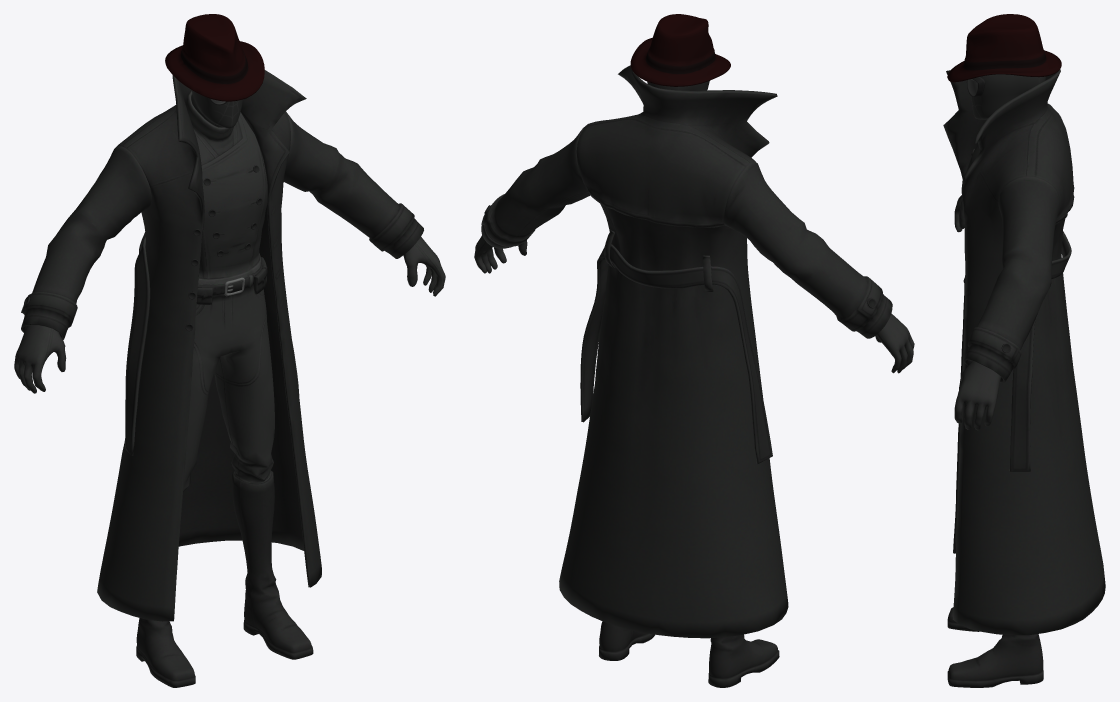
File: noir.glb.glb
3 renders of one model, left to right at view 1: azimuth 30°, elevation 25°; view 2: azimuth 150°, elevation 25°; view 3: azimuth 270°, elevation 25°, orthographic. The views are drawn at different scales.
Visible parts, largest first — view 1: M_MED_PuffinSmile_LOD0; view 2: M_MED_PuffinSmile_LOD0; view 3: M_MED_PuffinSmile_LOD0.
Boxes of the visible parts, x1=… form: M_MED_PuffinSmile_LOD0: x1=14, y1=14, x2=445, y2=687; M_MED_PuffinSmile_LOD0: x1=474, y1=14, x2=914, y2=687; M_MED_PuffinSmile_LOD0: x1=943, y1=14, x2=1105, y2=687.
Bounding box in the file's own units: 1.19 × 1.7 × 0.3983.
Materials: 3 (3 with a texture image).
